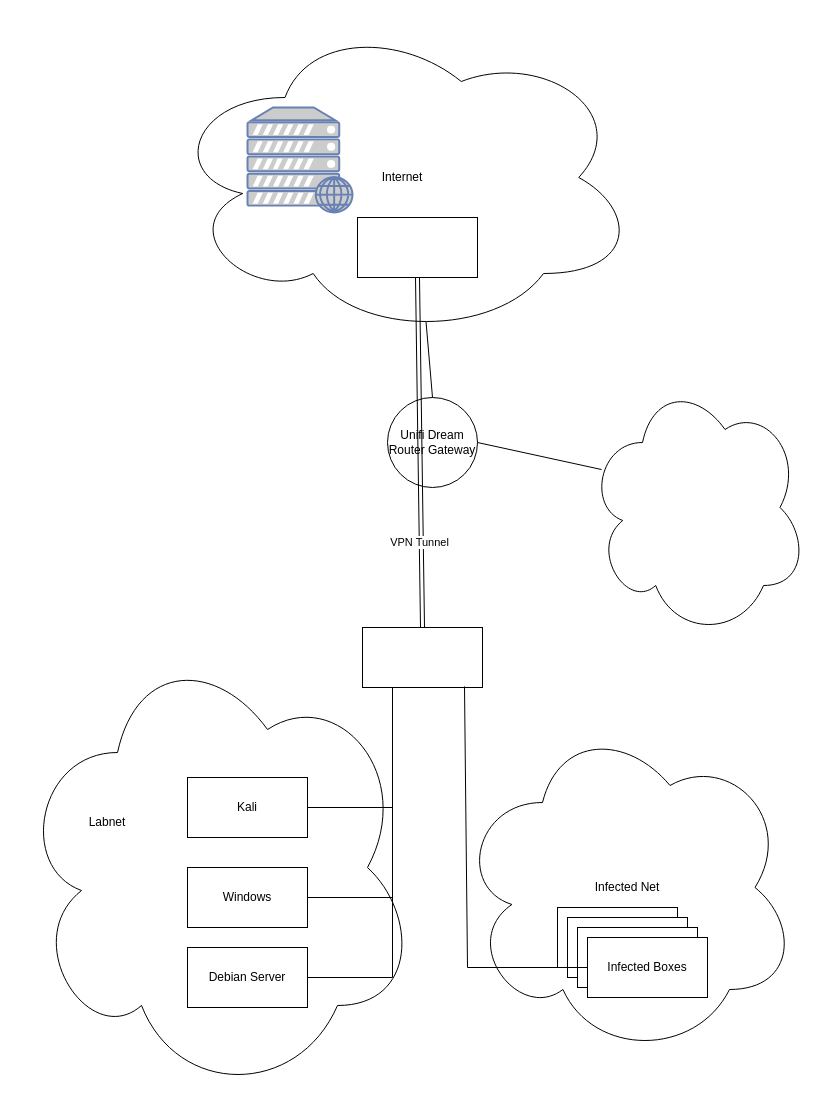
Image size: 825x1115. Some labels were removed from this diagram. The centre of each missing label's shape, as x and y in pixels:
"Home Net" belongs at point 697,507.
"pfSense FIrewall" belongs at point 422,657.
"Public VPN Service" belongs at point 417,247.
